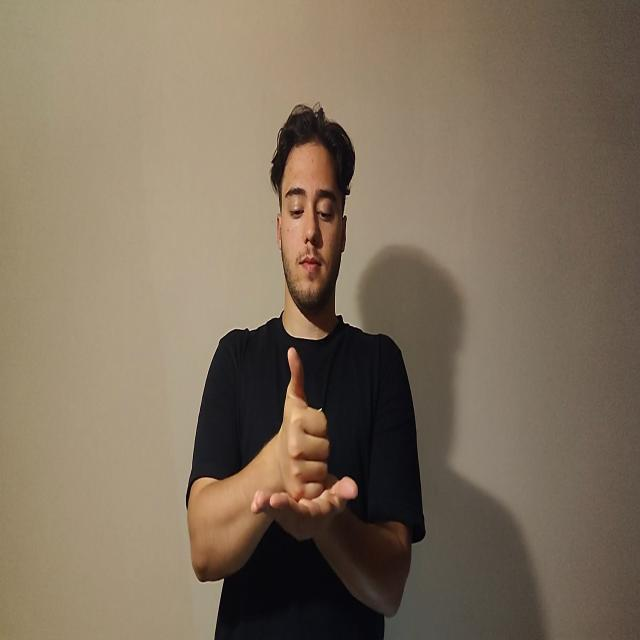help: (252, 348, 359, 542)
